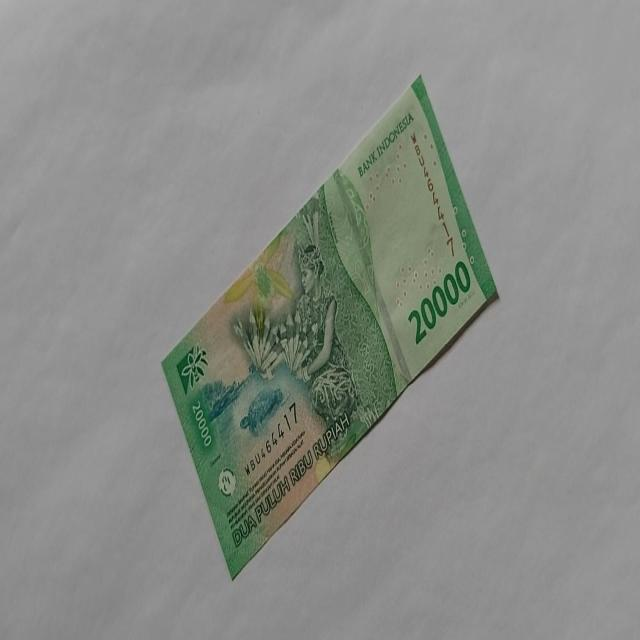dua puluh ribu rupiah: (160, 72, 500, 580), (406, 258, 472, 346)
